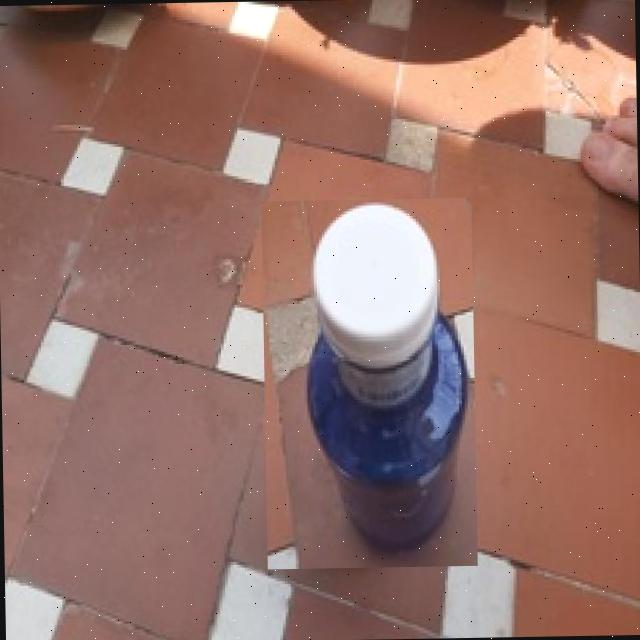bottle: (262, 197, 478, 569)
cap: (303, 201, 444, 367)
